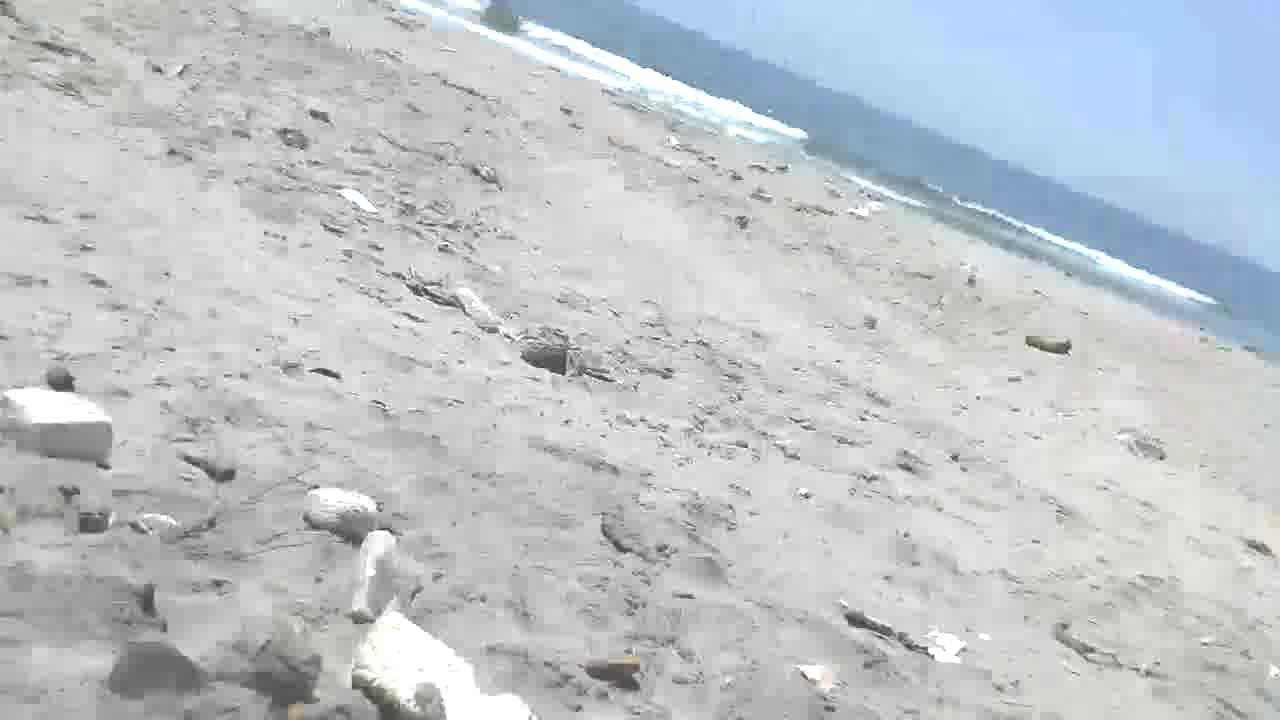obj: (352, 613, 538, 718), (5, 388, 110, 461), (349, 533, 432, 624), (300, 488, 378, 540), (456, 285, 504, 332), (516, 336, 566, 376), (921, 628, 970, 664), (336, 187, 378, 212), (1026, 336, 1076, 356)
sand/background: (414, 0, 1279, 372)
